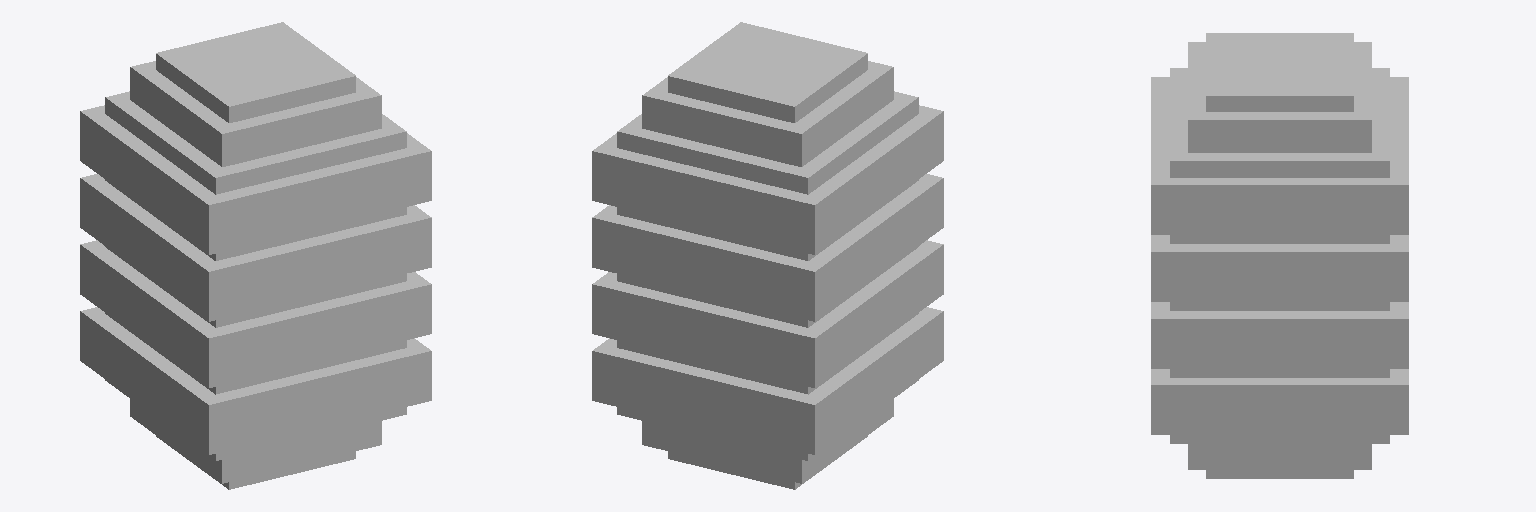
The model's file is fluid_links.obj.
The picture shows the model from 3 angles: view 1: azimuth 30°, elevation 25°; view 2: azimuth 150°, elevation 25°; view 3: azimuth 270°, elevation 25°; orthographic projection.
Visible parts, largest first — view 1: cube2, cube3, cube5, cube4, cube8, cube1, cube6, cube7; view 2: cube2, cube3, cube5, cube4, cube8, cube1, cube6, cube7; view 3: cube2, cube1, cube3, cube4, cube5, cube8, cube6, cube7.
Part boxes in pixels (x1,y1,x2,y2): cube2: (80, 105, 431, 254); cube3: (80, 174, 431, 321); cube5: (80, 307, 431, 454); cube4: (80, 240, 431, 387); cube8: (130, 61, 381, 483); cube1: (105, 91, 406, 460); cube6: (156, 22, 355, 122); cube7: (156, 436, 355, 489); cube2: (592, 105, 943, 254); cube3: (592, 174, 943, 321); cube5: (592, 307, 943, 454); cube4: (592, 240, 943, 387); cube8: (642, 61, 893, 483); cube1: (617, 91, 918, 460); cube6: (668, 22, 867, 122); cube7: (668, 436, 867, 489); cube2: (1151, 77, 1408, 234); cube1: (1170, 68, 1389, 443); cube3: (1151, 235, 1408, 301); cube4: (1151, 302, 1408, 368); cube5: (1151, 369, 1408, 434); cube8: (1188, 42, 1371, 469); cube6: (1206, 33, 1353, 111); cube7: (1206, 470, 1353, 478).
Size of the model in its own units: 0.875 by 1.44 by 0.875.